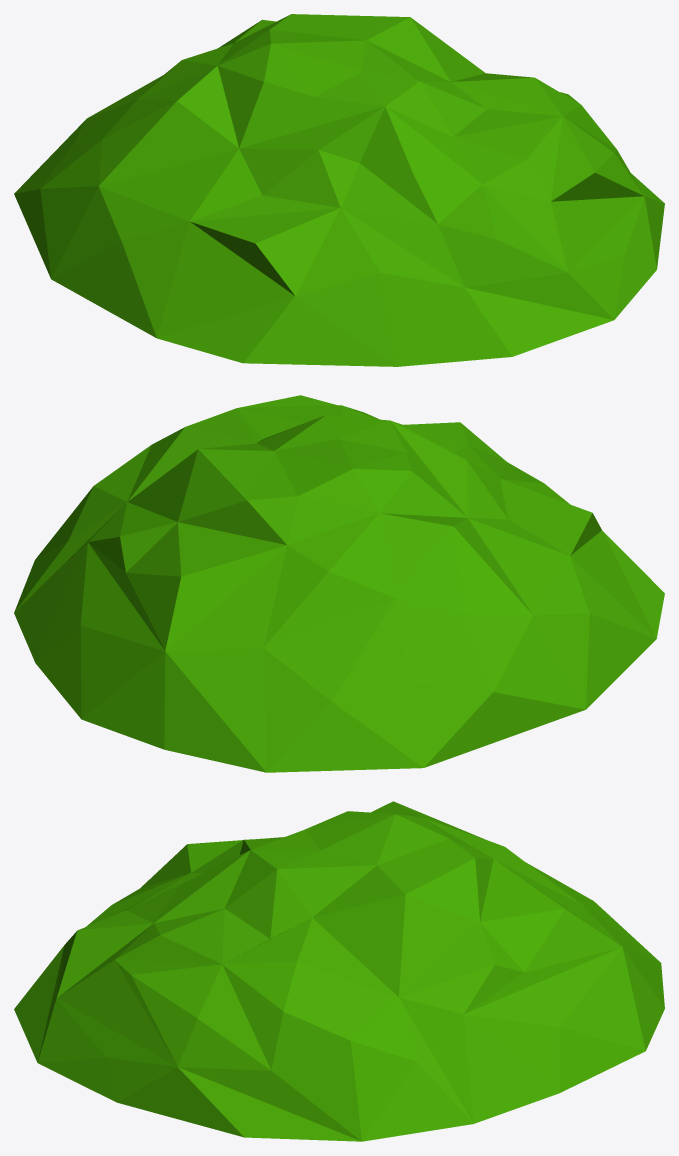
The model's file is GEO_leaf_01.fbx.
3 renders of one model, top to bottom at view 1: azimuth 30°, elevation 25°; view 2: azimuth 150°, elevation 25°; view 3: azimuth 270°, elevation 25°, orthographic. The views are drawn at different scales.
Parts seen in each view (by area): view 1: GEO_leaf_01; view 2: GEO_leaf_01; view 3: GEO_leaf_01.
Part boxes in pixels (x1,y1,x2,y2): GEO_leaf_01: [14, 14, 664, 366]; GEO_leaf_01: [14, 395, 664, 772]; GEO_leaf_01: [14, 801, 664, 1141].
Bounding box in the file's own units: 176 × 55.38 × 188.
